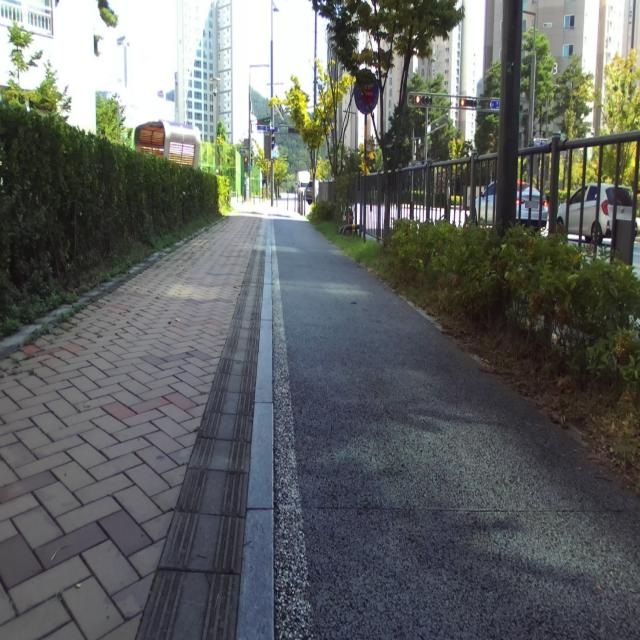빨간불: (244, 155, 248, 173)
